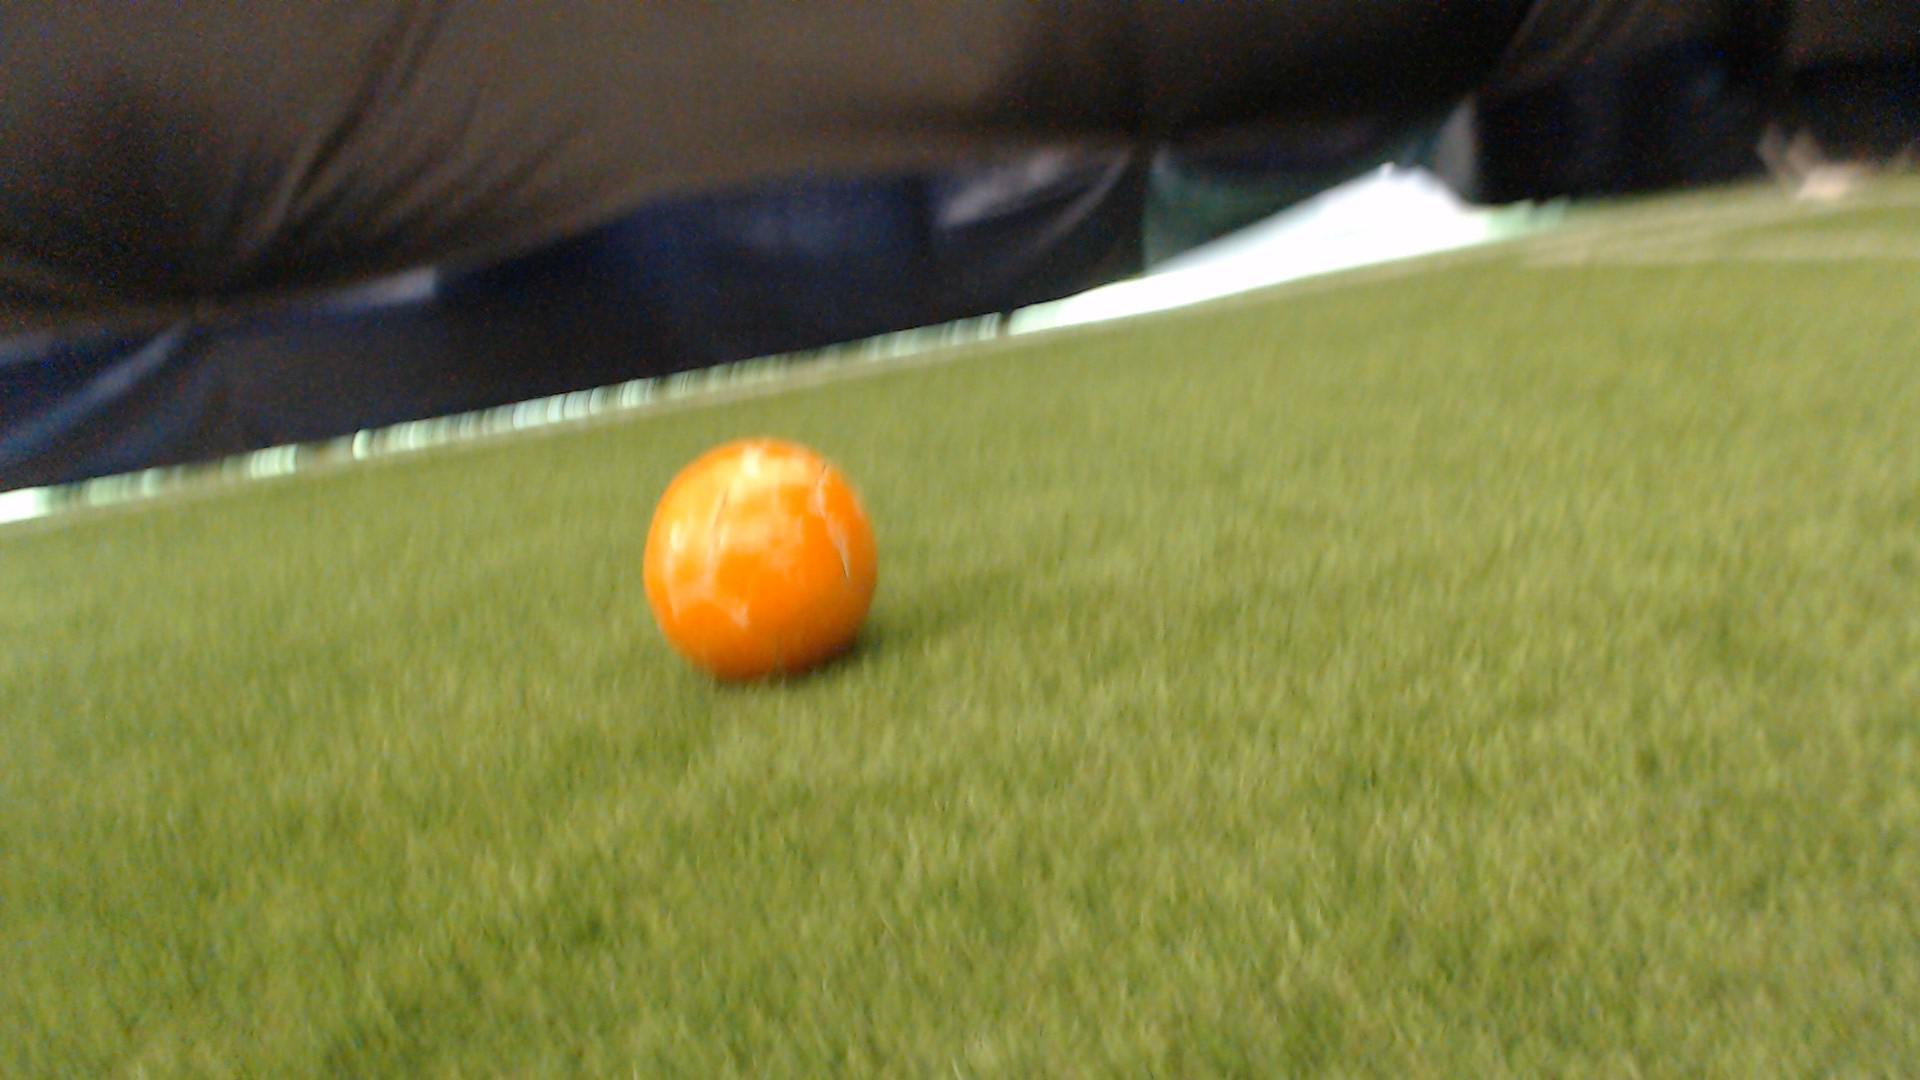bola: (621, 422, 920, 699)
